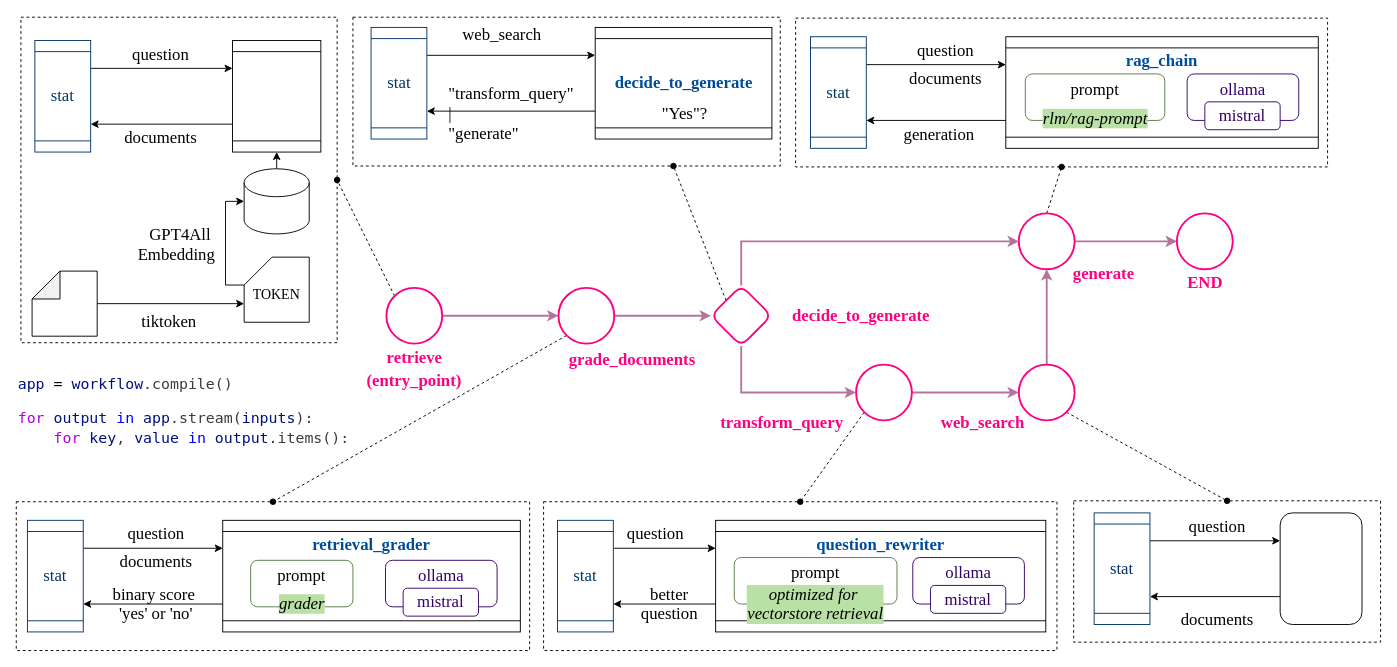
Some shapes in this 1397 by 667 pixel diagram are drawn without their labels. Each missing label, with the box of its shape:
DOC: (31, 270, 97, 336)
retriever: (232, 40, 321, 152)
Tavily Search: (1279, 512, 1362, 624)
VECTOR: (243, 168, 309, 234)
